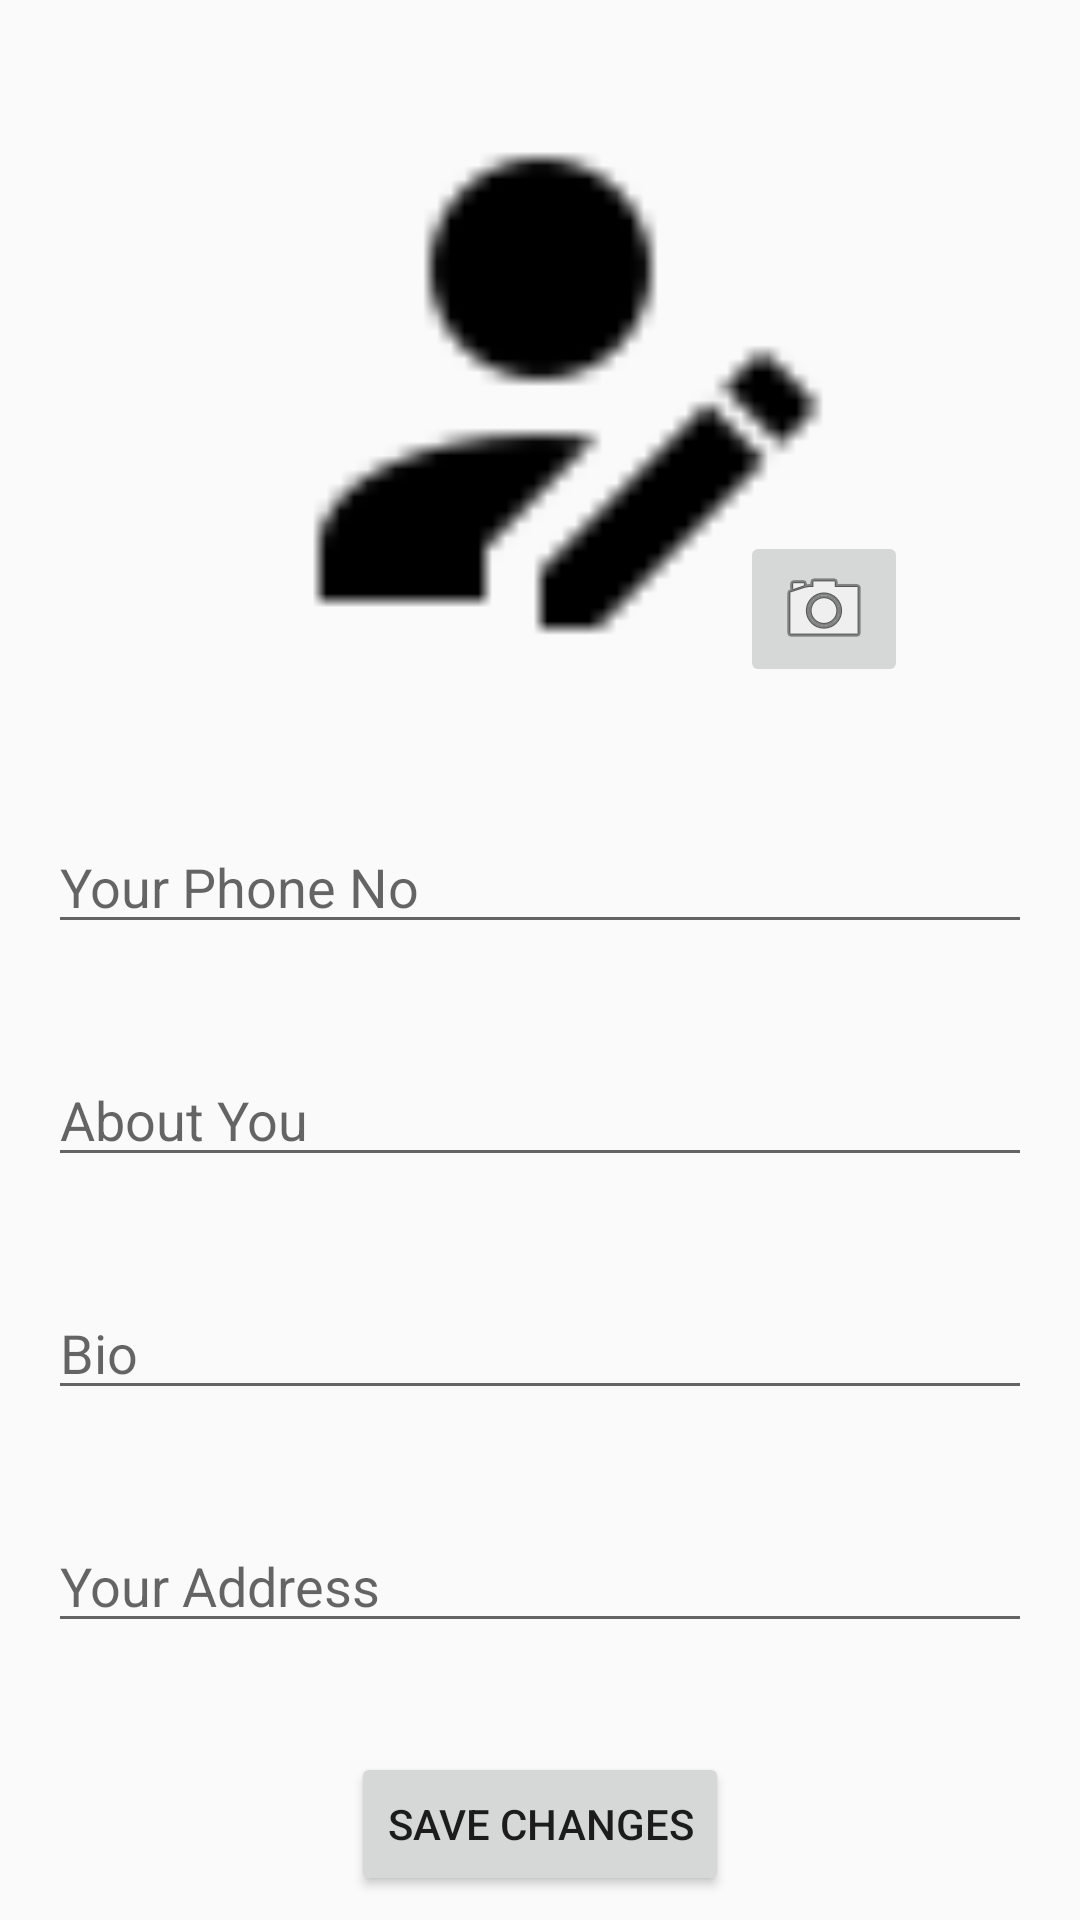

Icon bounding boxes for this 1080px×1920px phone screenshot, format detection(x1, y1, x2, y2):
camera: detection(752, 549, 896, 669)
